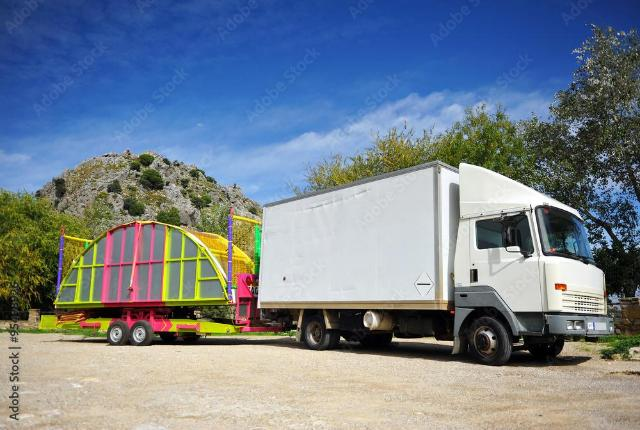truck: (250, 163, 611, 366)
